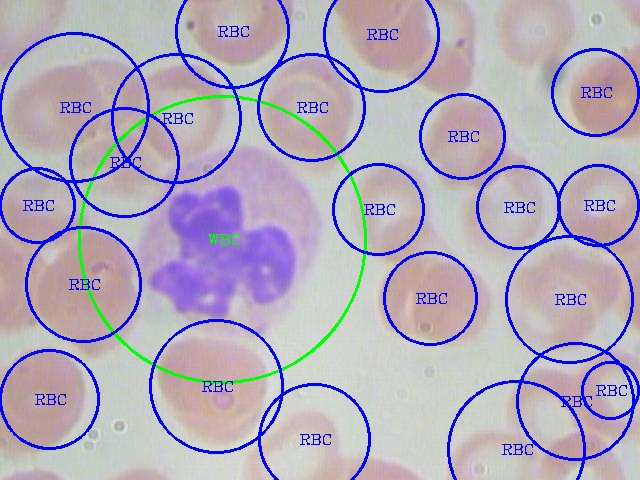RBC: (33, 225, 145, 358), (152, 333, 272, 444), (125, 57, 231, 159), (498, 363, 598, 462), (345, 158, 439, 263), (0, 344, 93, 449), (416, 94, 515, 190), (454, 159, 550, 258), (2, 59, 105, 151), (493, 265, 595, 355), (254, 70, 358, 154), (235, 401, 345, 478), (0, 164, 95, 250), (549, 157, 639, 247), (408, 258, 496, 348), (183, 0, 297, 67), (369, 255, 455, 341), (560, 49, 639, 142), (337, 0, 435, 73), (569, 343, 639, 439), (491, 0, 581, 70), (440, 422, 542, 479), (0, 0, 74, 70), (534, 425, 630, 478), (0, 239, 49, 338)
WBC: (134, 148, 334, 344)
